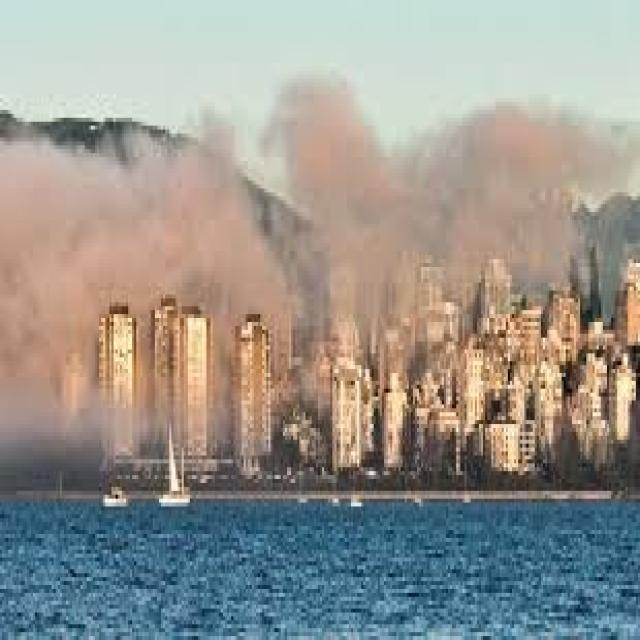Smoke: (0, 66, 636, 464)
